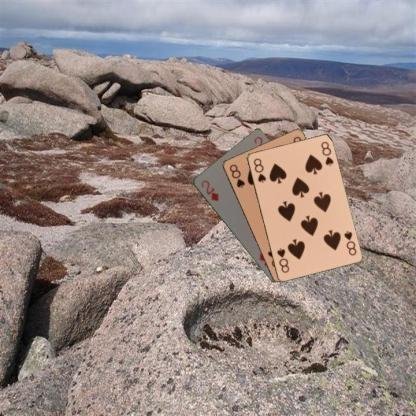2d: (198, 178, 220, 202)
8s: (226, 162, 247, 189), (341, 228, 358, 257), (251, 155, 267, 184)
